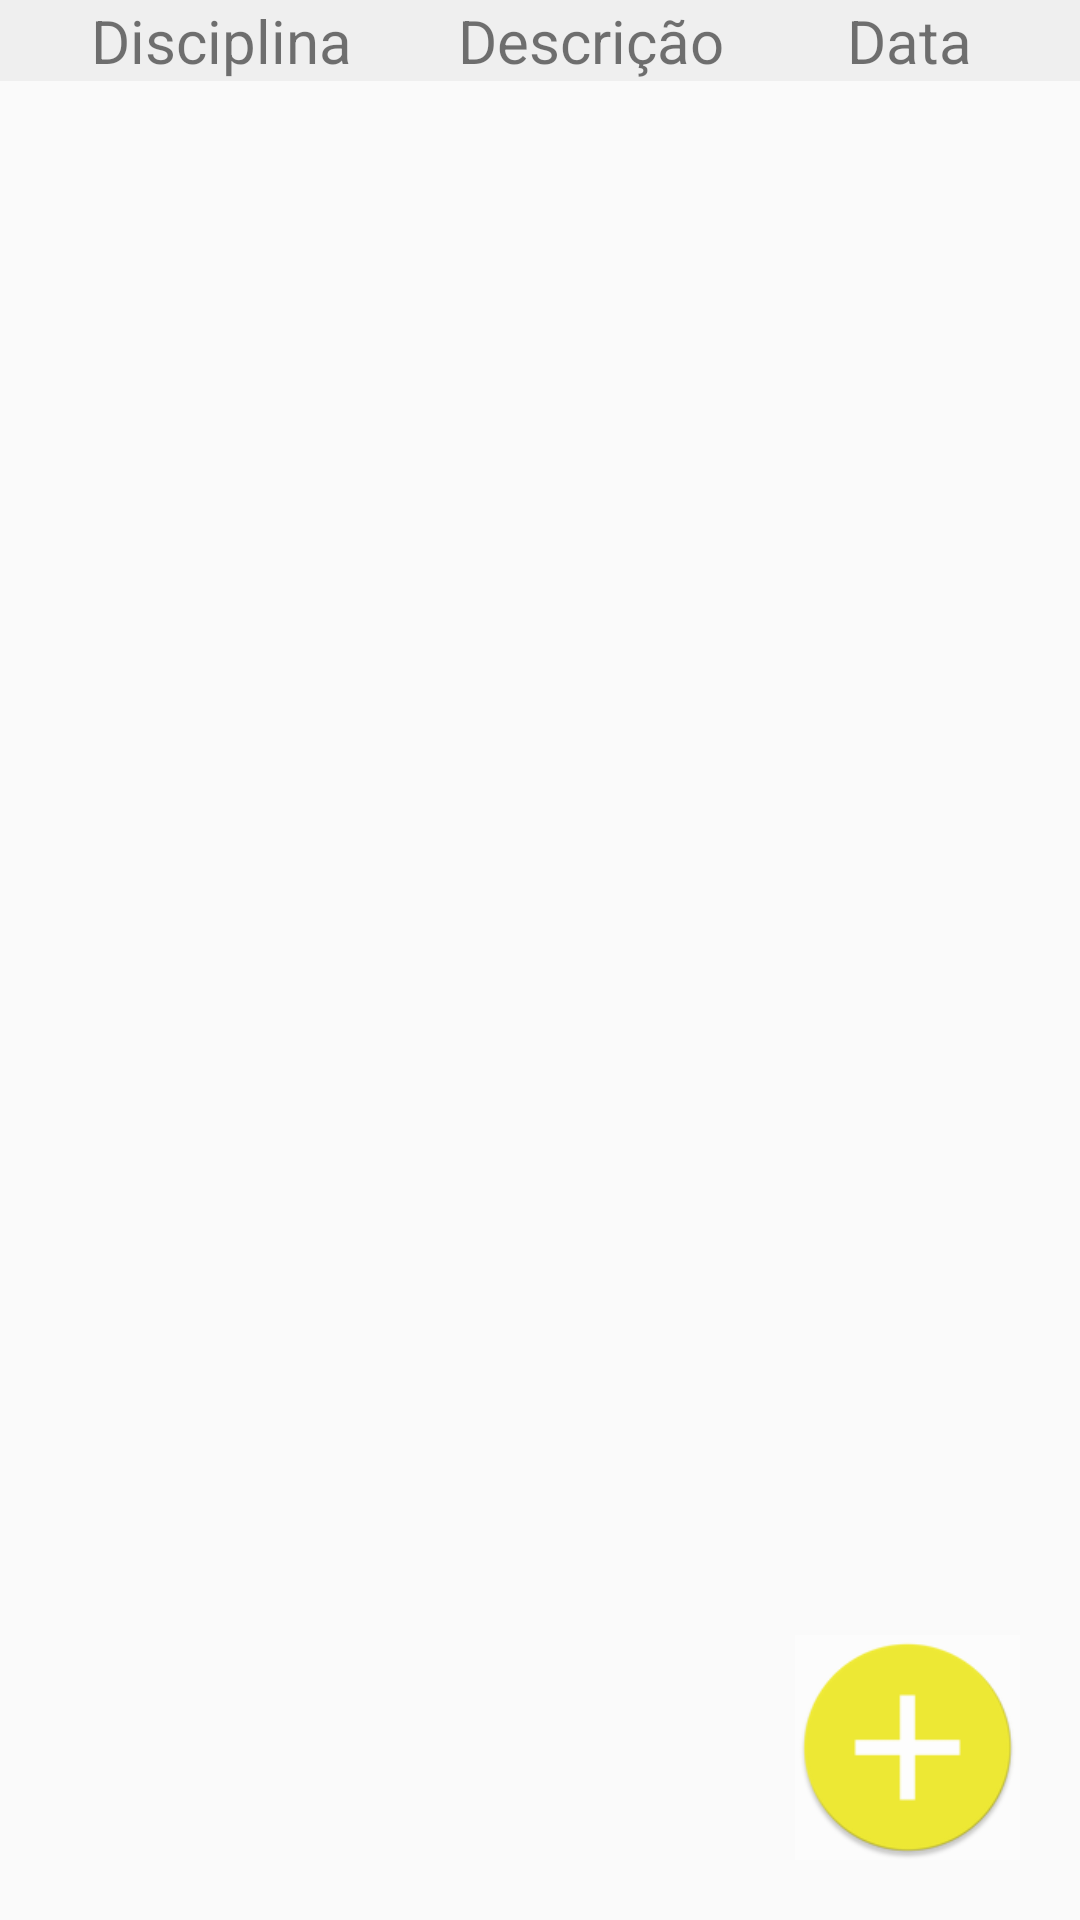

Screen size 1080x1920. Icon name, then its center in pixels as point (x, y):
add round: point (907, 1749)
